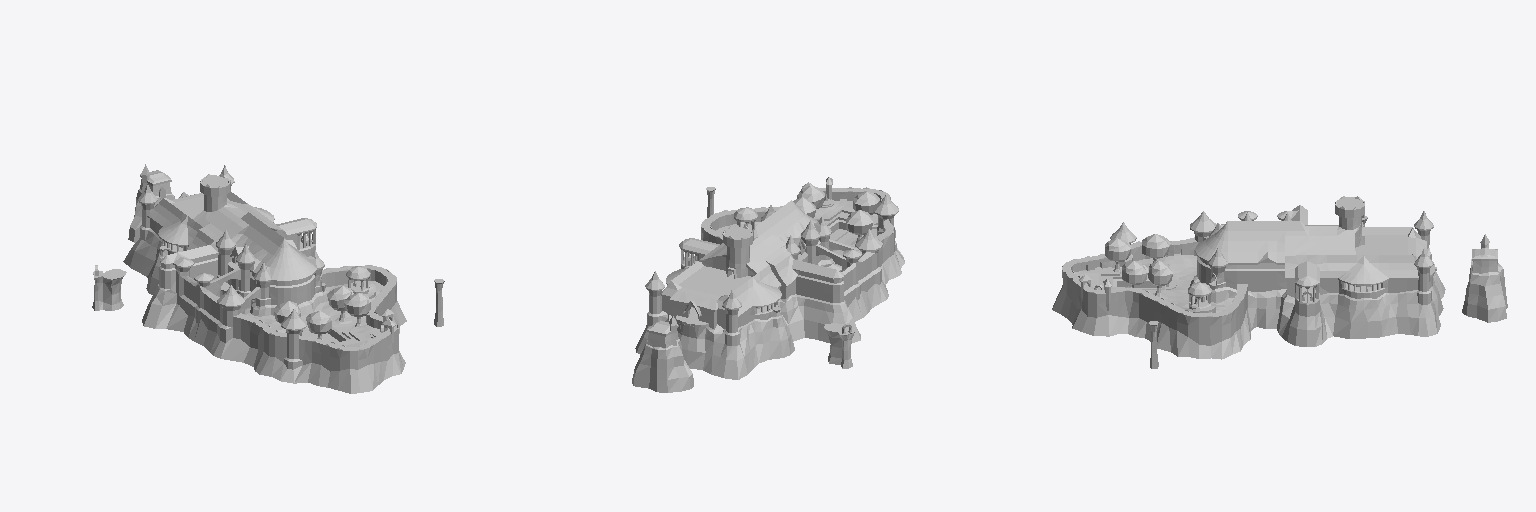
The model's file is Autumn Plains_n.obj.
3 views of the same model, side by side, from view 1: azimuth 30°, elevation 25°; view 2: azimuth 150°, elevation 25°; view 3: azimuth 270°, elevation 25° (orthographic).
Visible parts, largest first — view 1: AutumPlains; view 2: AutumPlains; view 3: AutumPlains.
Part boxes in pixels (left/top/right/bottom): AutumPlains: left=92, top=164, right=444, bottom=393; AutumPlains: left=632, top=177, right=904, bottom=392; AutumPlains: left=1052, top=196, right=1507, bottom=368.
Bounding box in the file's own units: 18.07 × 7.24 × 28.57.